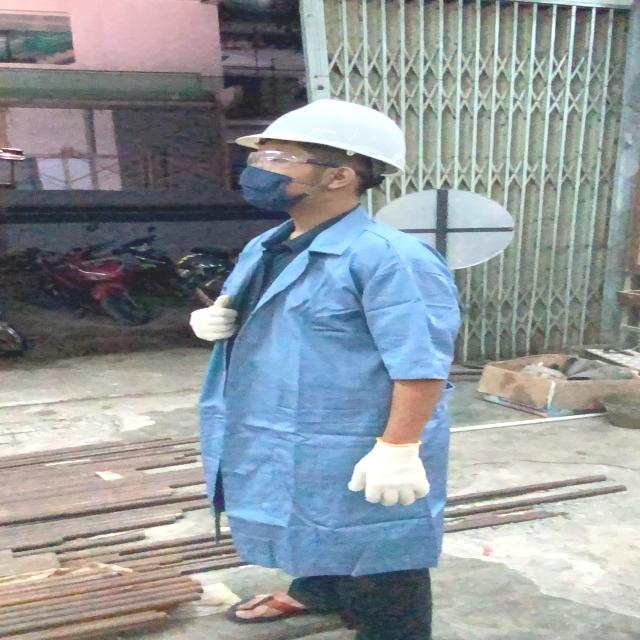face_mask: (227, 146, 310, 209)
glasses: (242, 148, 346, 169)
hand_glove: (324, 434, 449, 511), (174, 295, 253, 347)
head_helmet: (228, 94, 418, 168)
person: (218, 88, 474, 640)
